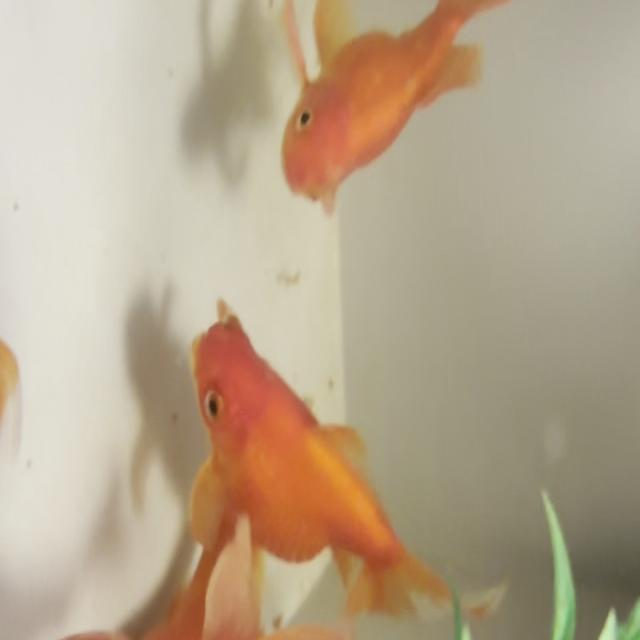fish: (190, 298, 490, 636), (280, 0, 563, 217), (0, 506, 370, 640)
